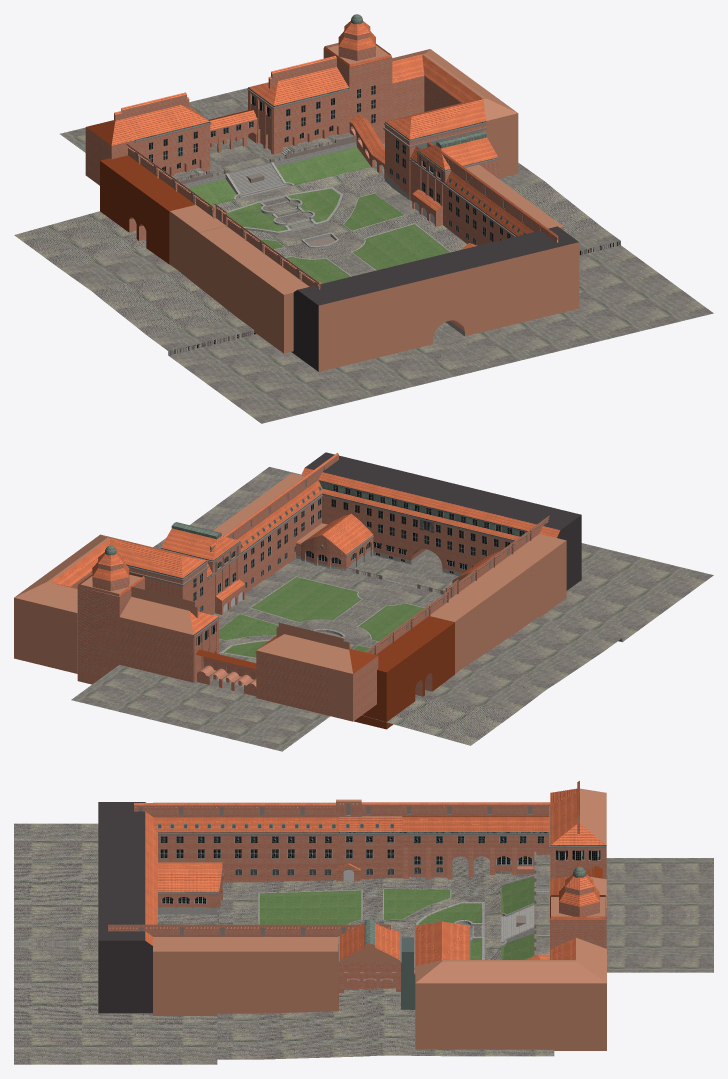
The model's file is courtyardv4.fbx.
3 views of the same model, one above another, from view 1: azimuth 30°, elevation 25°; view 2: azimuth 150°, elevation 25°; view 3: azimuth 270°, elevation 25° (orthographic). The views are drawn at different scales.
Parts seen in each view (by area): view 1: low.ground, South, north-center, east-south-wall.001, Cube, west-north, tower, east-south-wall, norht-platform, east-north, north-stair, east-entrance (+9 smaller); view 2: low.ground, South, north-center, norht-platform, east-south-wall.001, Cube, west-north, east-south-wall, tower, east-north, east-entrance, Corner (+6 smaller); view 3: low.ground, Cube, east-south-wall, norht-platform, South, east-south-wall.001, west-north, north-center, west.middle, east-entrance, tower, Corner (+8 smaller).
Boxes of the visible parts, x1=… form: low.ground: x1=14, y1=143, x2=713, y2=423; South: x1=291, y1=226, x2=579, y2=371; north-center: x1=121, y1=56, x2=349, y2=175; east-south-wall.001: x1=199, y1=226, x2=309, y2=353; Cube: x1=392, y1=49, x2=518, y2=178; west-north: x1=100, y1=155, x2=194, y2=264; tower: x1=323, y1=14, x2=392, y2=143; east-south-wall: x1=444, y1=164, x2=563, y2=245; norht-platform: x1=60, y1=88, x2=356, y2=183; east-north: x1=383, y1=99, x2=486, y2=200; north-stair: x1=183, y1=147, x2=347, y2=205; east-entrance: x1=412, y1=131, x2=498, y2=226; low.ground: x1=153, y1=467, x2=713, y2=745; South: x1=301, y1=452, x2=581, y2=590; north-center: x1=119, y1=586, x2=343, y2=715; norht-platform: x1=71, y1=652, x2=329, y2=751; east-south-wall.001: x1=457, y1=534, x2=566, y2=654; Cube: x1=14, y1=534, x2=128, y2=673; west-north: x1=354, y1=616, x2=454, y2=729; east-south-wall: x1=213, y1=473, x2=322, y2=592; tower: x1=77, y1=545, x2=144, y2=684; east-north: x1=109, y1=538, x2=208, y2=613; east-entrance: x1=160, y1=522, x2=245, y2=614; Corner: x1=296, y1=513, x2=499, y2=582; low.ground: x1=14, y1=823, x2=554, y2=1064; Cube: x1=415, y1=937, x2=606, y2=1050; east-south-wall: x1=153, y1=937, x2=338, y2=1015; norht-platform: x1=534, y1=851, x2=713, y2=972; South: x1=98, y1=802, x2=157, y2=1013; east-south-wall.001: x1=153, y1=802, x2=338, y2=882; west-north: x1=402, y1=816, x2=550, y2=879; north-center: x1=549, y1=781, x2=606, y2=921; west.middle: x1=336, y1=803, x2=402, y2=881; east-entrance: x1=338, y1=919, x2=401, y2=1001; tower: x1=550, y1=866, x2=606, y2=959; Corner: x1=158, y1=862, x2=223, y2=914.
Bounding box in the file's own units: 25.91 × 7.31 × 31.8.
